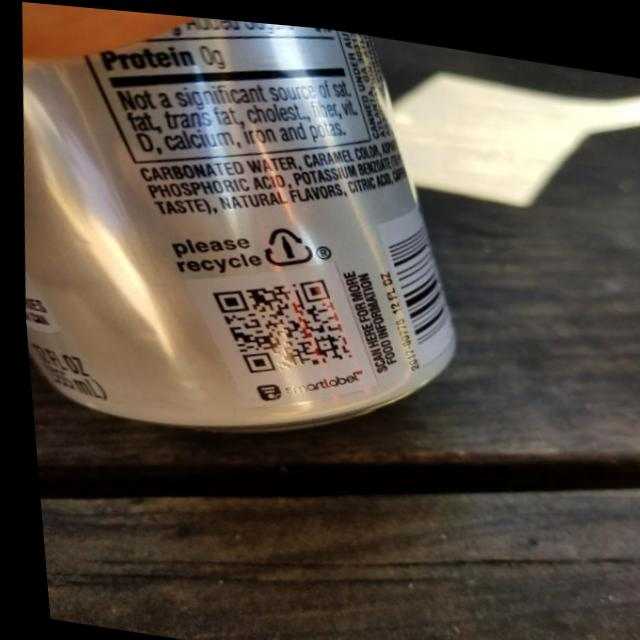QR_CODE: (183, 244, 371, 401)
